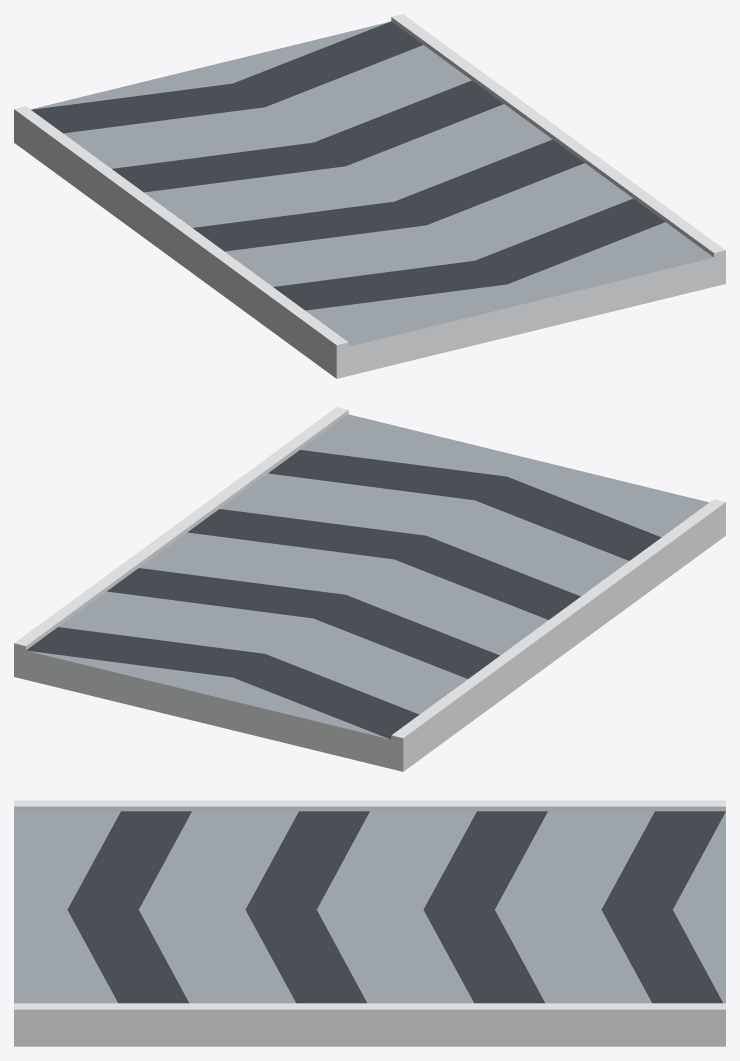
The model's file is platform_deneme.fbx.
The picture shows the model from 3 angles, top to bottom: view 1: azimuth 30°, elevation 25°; view 2: azimuth 150°, elevation 25°; view 3: azimuth 270°, elevation 25°; orthographic projection. The views are drawn at different scales.
Parts seen in each view (by area): view 1: Platform; view 2: Platform; view 3: Platform.
Boxes of the visible parts, bbox=[...] form: Platform: bbox=[14, 14, 725, 378]; Platform: bbox=[14, 407, 725, 771]; Platform: bbox=[14, 800, 725, 1046].
Bounding box in the file's own units: 27.84 × 2.3 × 39.98.
1 material, 1 textured.
